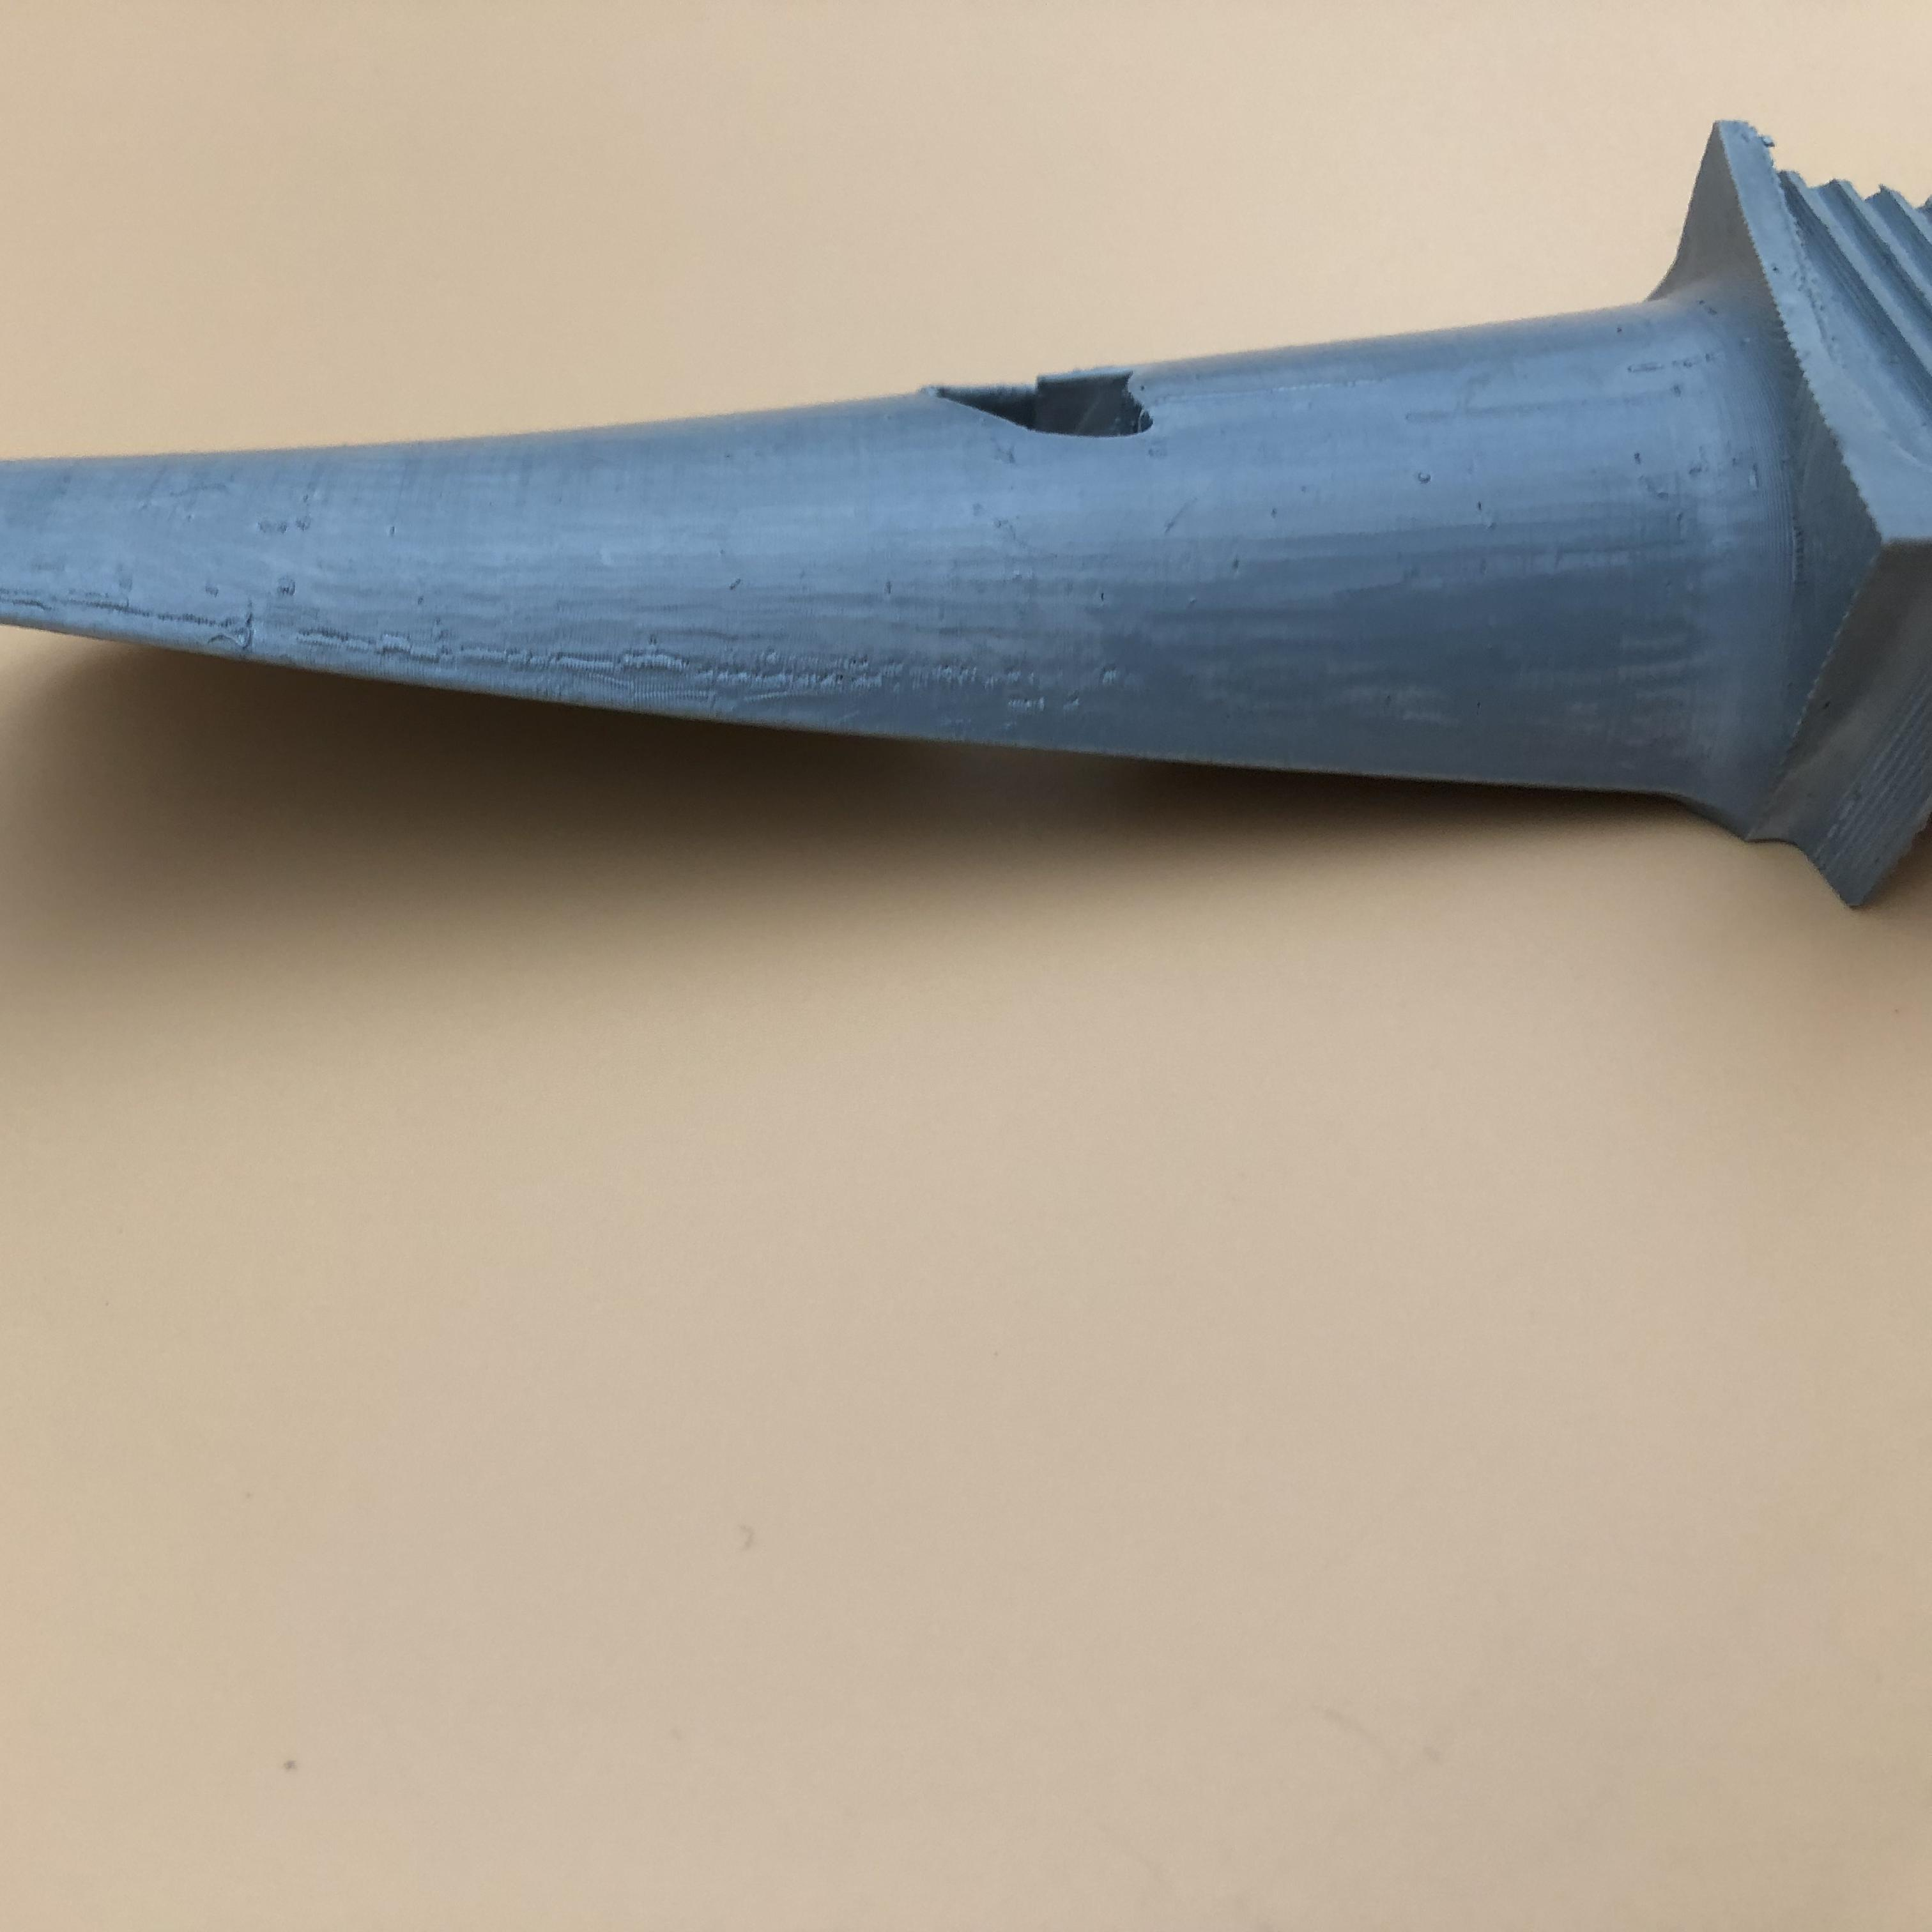breakdown: (938, 379, 1164, 446)
